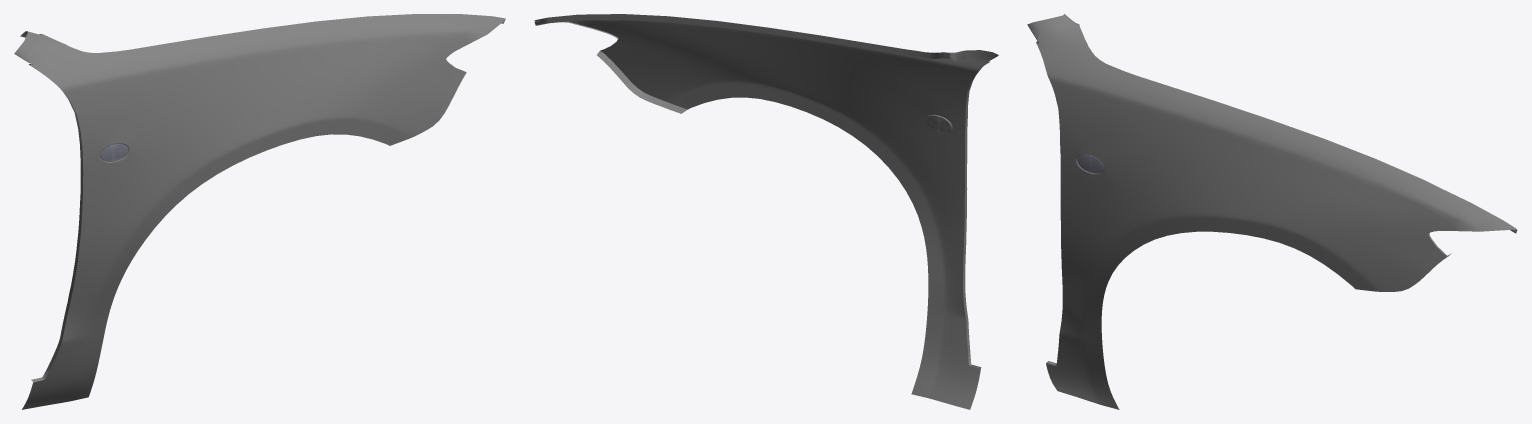
The picture shows the model from 3 angles, left to right: view 1: azimuth 30°, elevation 25°; view 2: azimuth 150°, elevation 25°; view 3: azimuth 330°, elevation 25°; orthographic projection. The views are drawn at different scales.
Parts seen in each view (by area): view 1: D160_141B_R_2_DaS_D160_141B_R, D160_141B_R_2_DaS_D160_141B_R_E; view 2: D160_141B_R_2_DaS_D160_141B_R, D160_141B_R_2_DaS_D160_141B_R_E; view 3: D160_141B_R_2_DaS_D160_141B_R, D160_141B_R_2_DaS_D160_141B_R_E.
Boxes of the visible parts, bbox=[...] form: D160_141B_R_2_DaS_D160_141B_R: bbox=[22, 14, 505, 409]; D160_141B_R_2_DaS_D160_141B_R_E: bbox=[14, 19, 505, 382]; D160_141B_R_2_DaS_D160_141B_R: bbox=[534, 18, 988, 409]; D160_141B_R_2_DaS_D160_141B_R_E: bbox=[534, 14, 998, 368]; D160_141B_R_2_DaS_D160_141B_R: bbox=[1036, 22, 1516, 409]; D160_141B_R_2_DaS_D160_141B_R_E: bbox=[1027, 14, 1517, 365].
Bounding box in the file's own units: 127 × 93.66 × 17.84.
